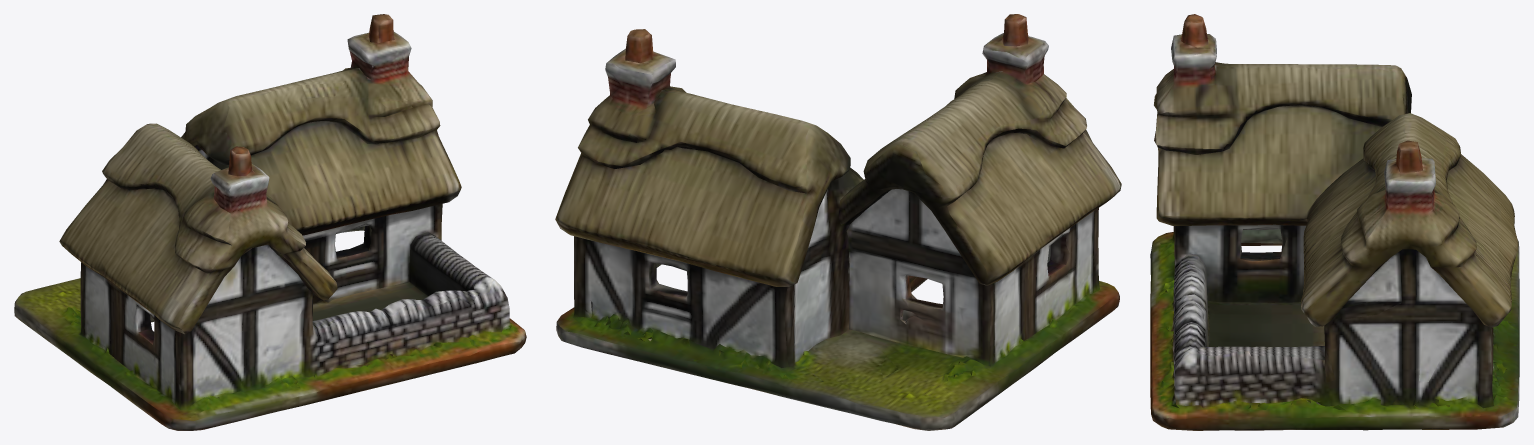
File: village_grass_a.glb
3 views of the same model, side by side, from view 1: azimuth 30°, elevation 25°; view 2: azimuth 150°, elevation 25°; view 3: azimuth 270°, elevation 25° (orthographic). The views are drawn at different scales.
Visible parts, largest first — view 1: world; view 2: world; view 3: world.
Boxes of the visible parts, x1,y1,x2,y2 form: world: (14,14,526,430); world: (555,14,1121,430); world: (1150,14,1519,430).
Size of the model in its own units: 0.9989 by 0.669 by 0.8229.
1 material, 1 textured.
